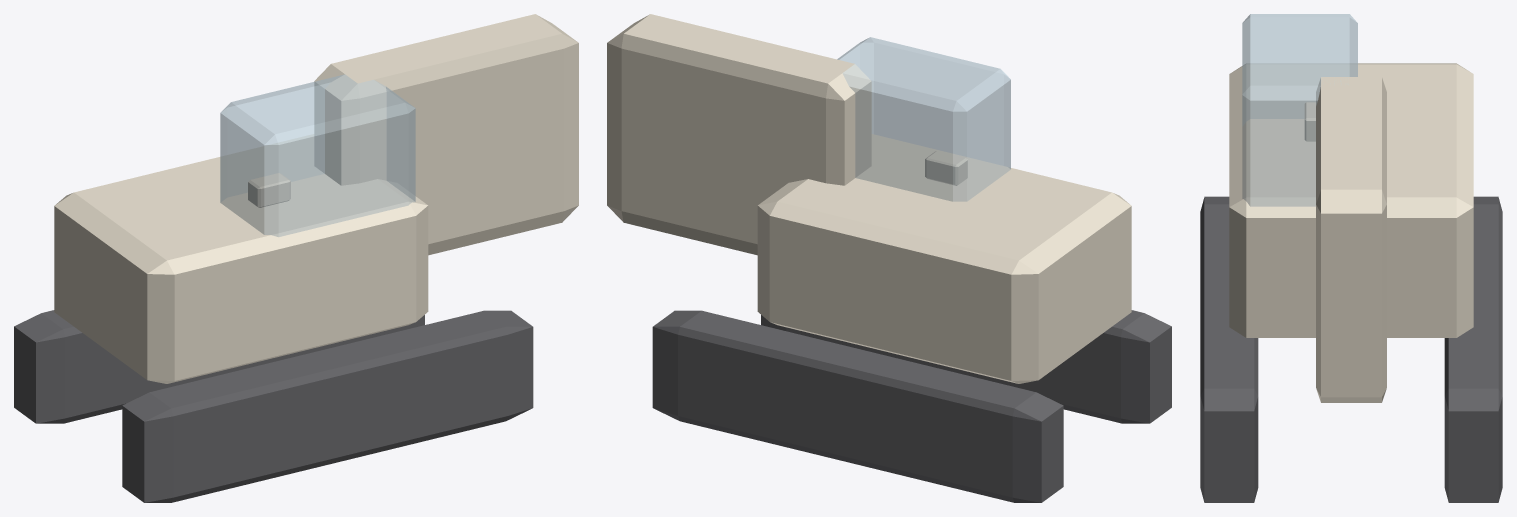
File: b07_mini_excavator_open_canopy.glb
3 renders of one model, left to right at view 1: azimuth 30°, elevation 25°; view 2: azimuth 150°, elevation 25°; view 3: azimuth 270°, elevation 25°, orthographic. The views are drawn at different scales.
Parts seen in each view (by area): view 1: b07_mini_excavator_open_canopy; view 2: b07_mini_excavator_open_canopy; view 3: b07_mini_excavator_open_canopy.
Boxes of the visible parts, bbox=[...] form: b07_mini_excavator_open_canopy: bbox=[14, 14, 578, 502]; b07_mini_excavator_open_canopy: bbox=[607, 14, 1171, 502]; b07_mini_excavator_open_canopy: bbox=[1200, 14, 1502, 502].
Size of the model in its own units: 3.49 by 2.22 by 1.66.
